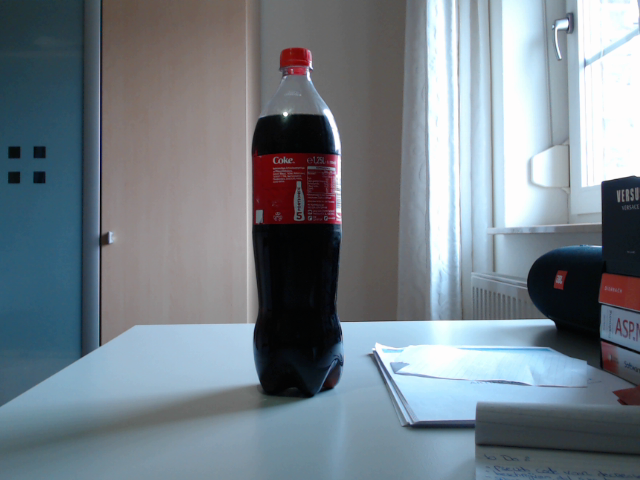bottle: (250, 46, 345, 400)
